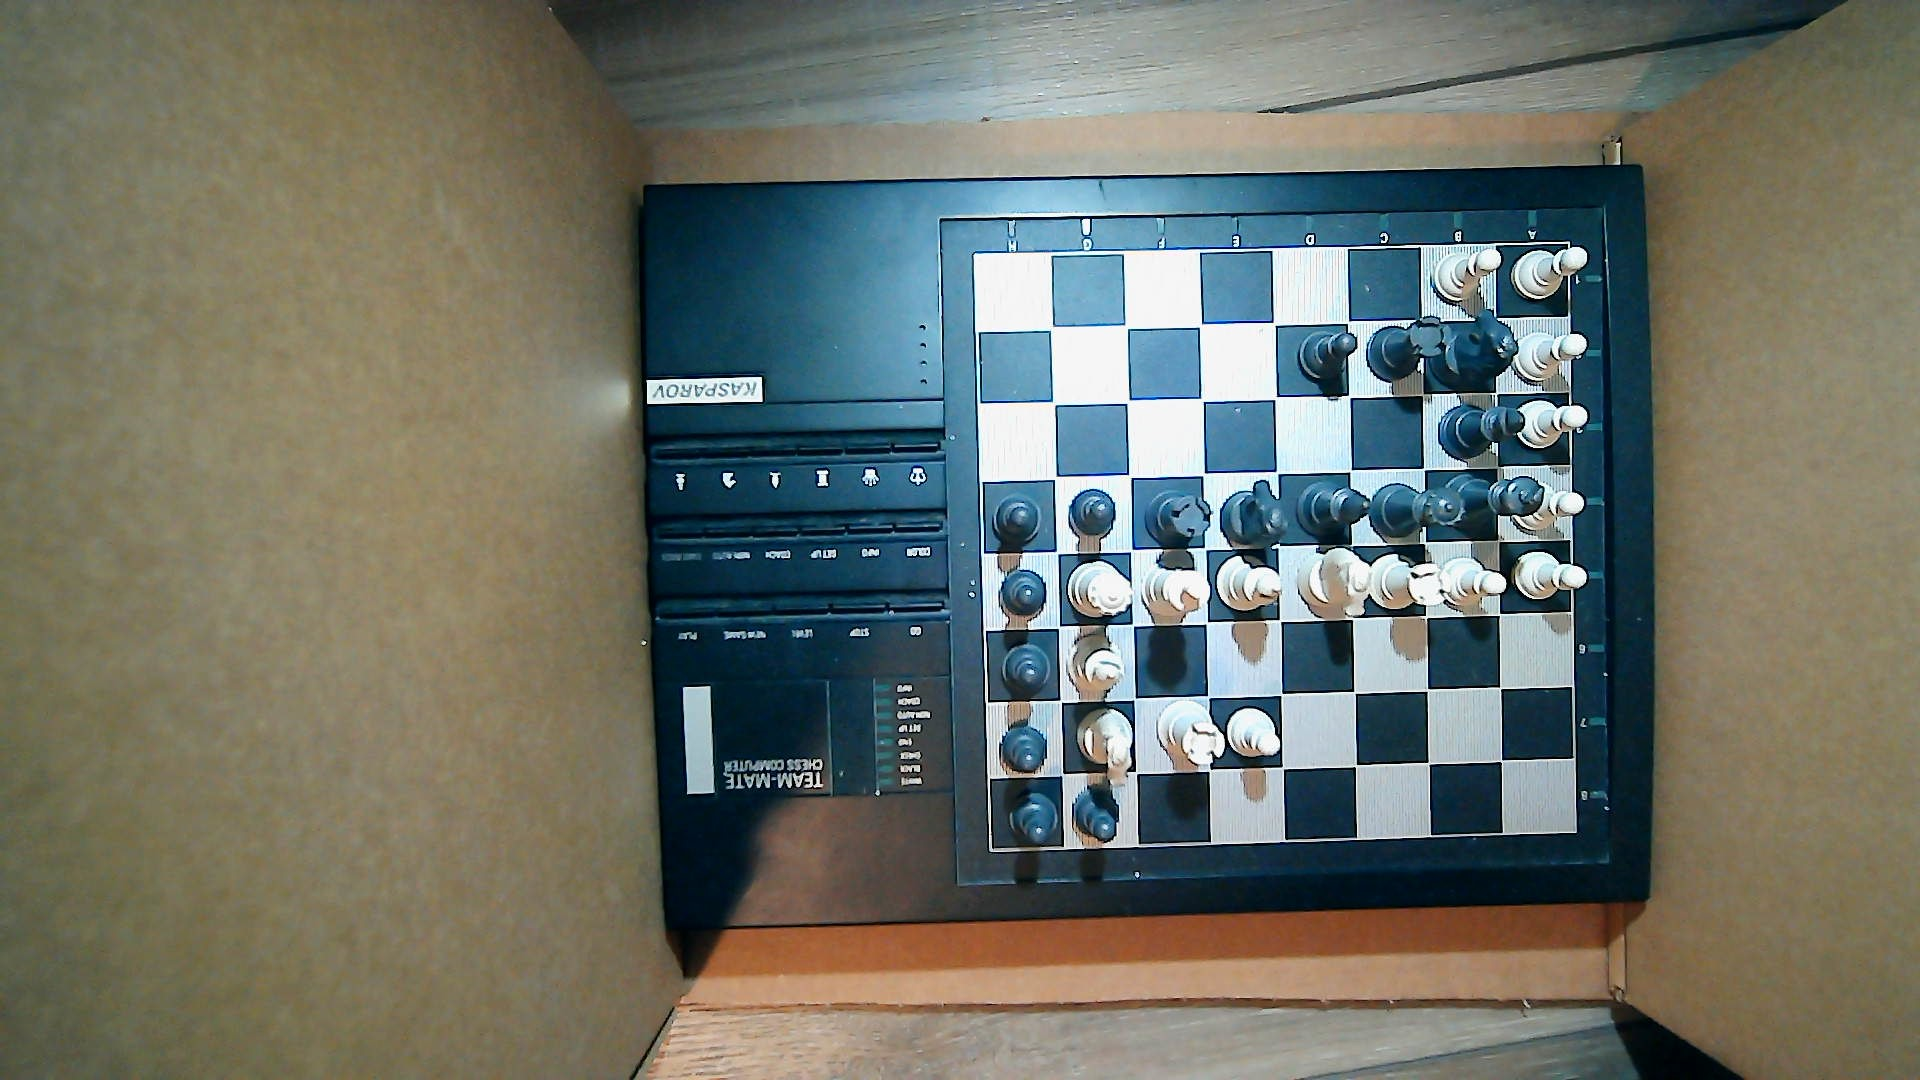bbishop: (1437, 402, 1526, 460), (1296, 483, 1371, 537)
bking: (1447, 472, 1545, 527)
bknight: (1436, 309, 1519, 382), (1218, 479, 1291, 546)
bpawn: (1298, 328, 1361, 382), (1069, 782, 1121, 843), (1006, 793, 1060, 847), (1065, 487, 1117, 541), (997, 568, 1051, 620), (992, 495, 1044, 545), (1001, 644, 1051, 695), (1000, 723, 1051, 773)
bqueen: (1367, 483, 1465, 537)
brook: (1365, 315, 1452, 382), (1143, 487, 1212, 543)
wbishop: (1217, 554, 1286, 613), (1063, 633, 1127, 695)
wking: (1143, 562, 1212, 620)
wknight: (1073, 707, 1135, 786), (1298, 549, 1367, 618)
wpawn: (1509, 245, 1589, 301), (1511, 327, 1586, 382), (1511, 549, 1589, 601), (1515, 400, 1590, 450), (1429, 251, 1501, 303), (1522, 477, 1582, 534), (1443, 554, 1506, 608), (1226, 708, 1282, 760)
wqueen: (1063, 560, 1135, 618)
wrook: (1154, 699, 1226, 769), (1369, 550, 1451, 609)
